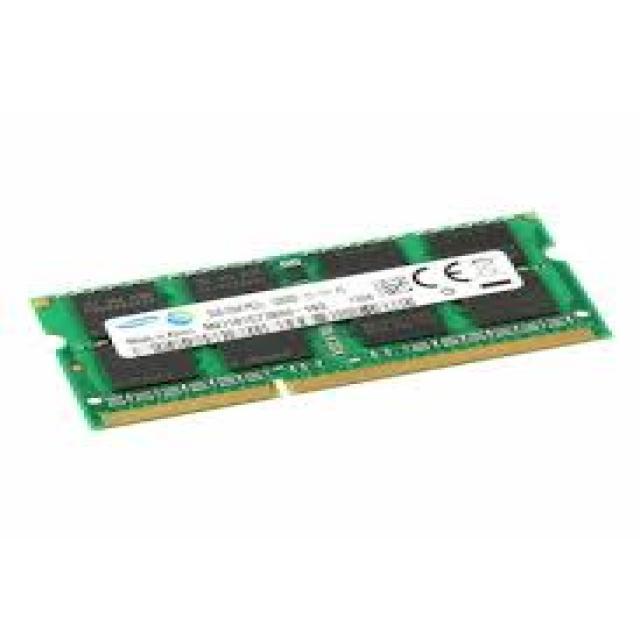Ram: (9, 173, 639, 498)
